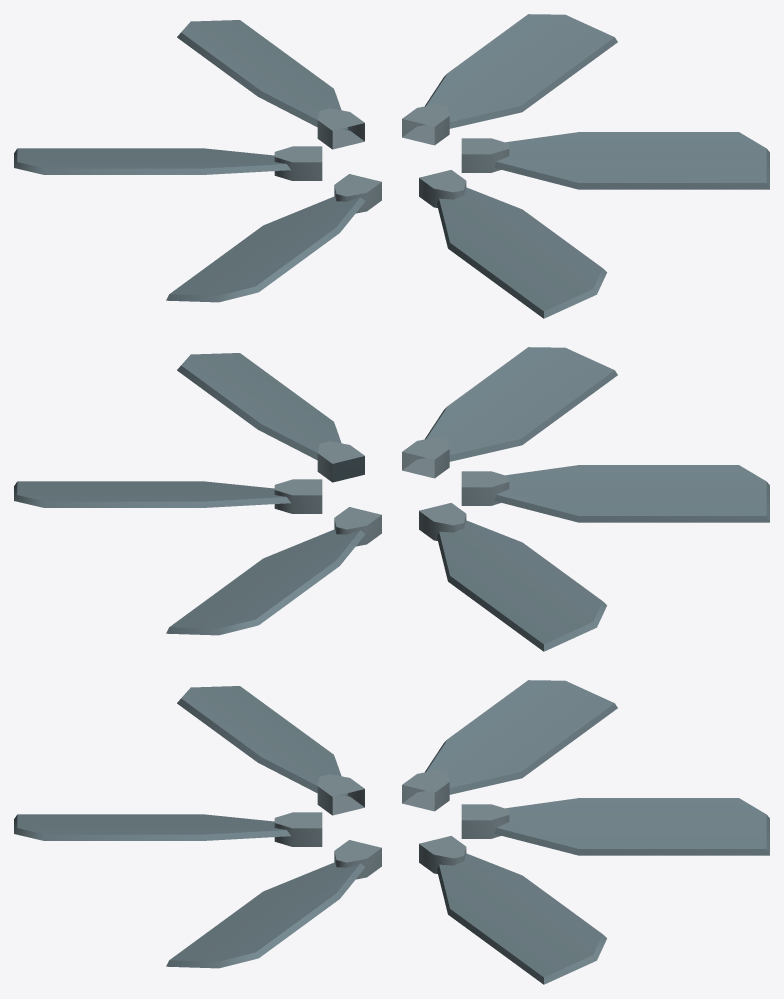
Rendered from Ventilation_013.fbx.
The picture shows the model from 3 angles, top to bottom: view 1: azimuth 30°, elevation 25°; view 2: azimuth 150°, elevation 25°; view 3: azimuth 270°, elevation 25°; orthographic projection.
Visible parts, largest first — view 1: Ventilation_013; view 2: Ventilation_013; view 3: Ventilation_013.
Part boxes in pixels (box(x1,y1,x2,y2)): Ventilation_013: box(14, 14, 769, 318); Ventilation_013: box(14, 347, 769, 651); Ventilation_013: box(14, 680, 769, 984).
Bounding box in the file's own units: 47.31 × 51.27 × 1.58.
